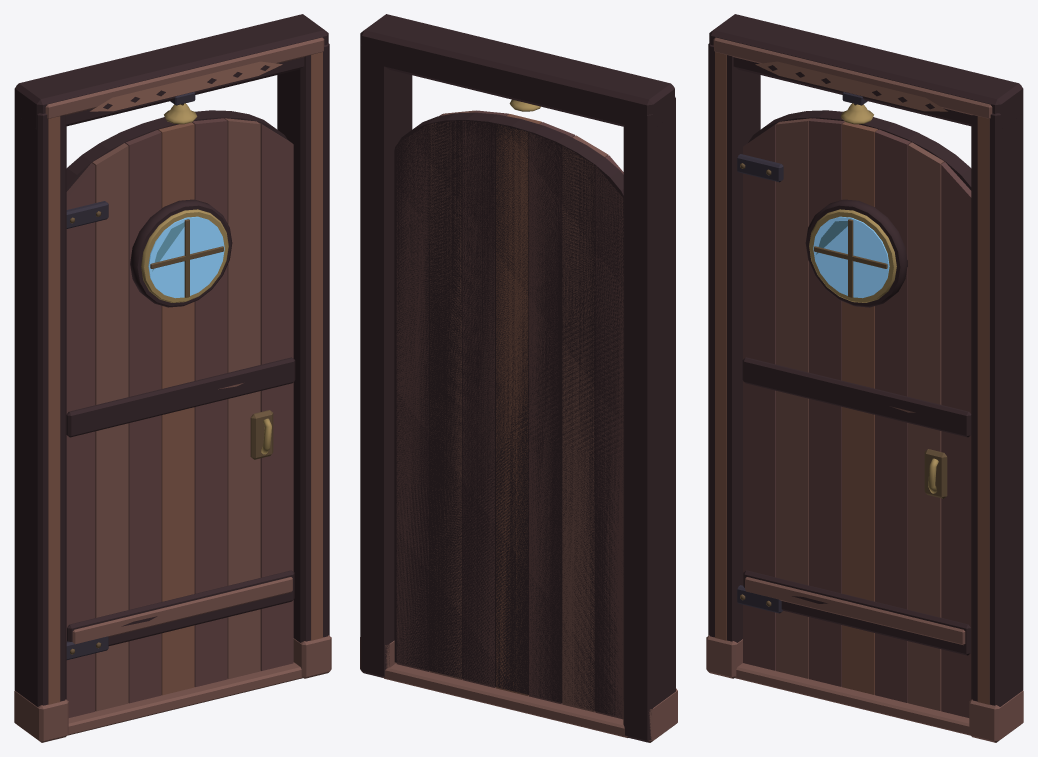
The model's file is door.glb.
3 renders of one model, left to right at view 1: azimuth 30°, elevation 25°; view 2: azimuth 150°, elevation 25°; view 3: azimuth 330°, elevation 25°, orthographic.
Visible parts, largest first — view 1: door; view 2: door; view 3: door.
Part boxes in pixels (<box>): door: <box>14,14,331,742</box>; door: <box>360,14,677,742</box>; door: <box>706,14,1023,742</box>.
Size of the model in its own units: 1.1 by 2.3 by 0.1953.
